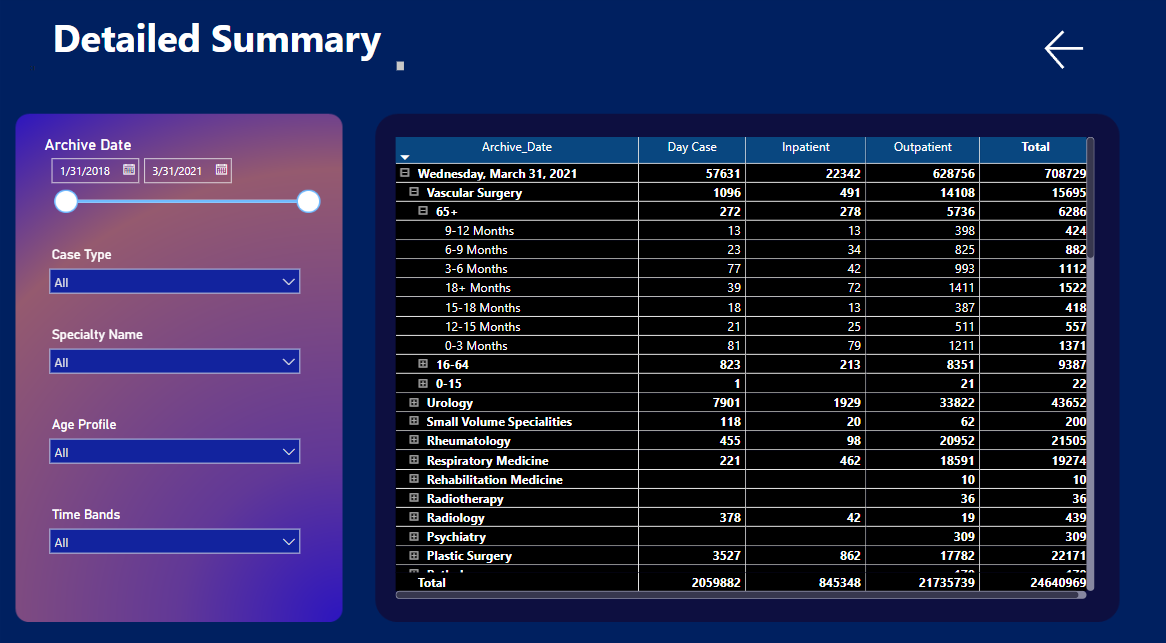

What the dashboard file says about the page in this screenshot:
{"tool":"powerbi","page":{"name":"Detail","canvas":[1280,720],"ordinal":1},"visuals":[{"type":"pivotTable","fields":{"Rows":["AllDatas.Archive_Date","AllDatas.Specialty_Name","AllDatas.Age_Profile","AllDatas.Time_Bands"],"Columns":["AllDatas.Case_Type"],"Values":["Sum(AllDatas.Total)"]},"box":[430,151.4,777.1,517.1],"z":0},{"type":"slicer","title":"Archive Date","fields":{"Values":["AllDatas.Archive_Date"]},"box":[44.3,154.3,315.7,92.9],"z":1000},{"type":"slicer","fields":{"Values":["AllDatas.Case_Type"]},"box":[44.3,271.4,295.7,62.9],"z":2000},{"type":"slicer","fields":{"Values":["AllDatas.Specialty_Name"]},"box":[44.3,360,295.7,62.9],"z":3000},{"type":"slicer","fields":{"Values":["AllDatas.Age_Profile"]},"box":[44.3,458.6,295.7,62.9],"z":4000},{"type":"slicer","fields":{"Values":["AllDatas.Time_Bands"]},"box":[44.3,557.1,295.7,62.9],"z":5000},{"type":"textbox","title":"Detailed Summary","box":[27,17.5,420.9,70.2],"z":6000},{"type":"actionButton","box":[1141.3,33.4,65.3,54.2],"z":7000}]}

Visuals, with their boxes in screenshot pixels (x1, y1, x2, y2), scaled from the page's 1280x720 canvas onto the 1166x643 screenshot:
pivotTable - AllDatas.Archive_Date x AllDatas.Specialty_Name: <bbox>392, 135, 1100, 597</bbox>
"Archive Date" slicer: <bbox>40, 138, 328, 221</bbox>
slicer - AllDatas.Case_Type: <bbox>40, 242, 310, 299</bbox>
slicer - AllDatas.Specialty_Name: <bbox>40, 322, 310, 378</bbox>
slicer - AllDatas.Age_Profile: <bbox>40, 410, 310, 466</bbox>
slicer - AllDatas.Time_Bands: <bbox>40, 498, 310, 554</bbox>
"Detailed Summary" textbox: <bbox>25, 16, 408, 78</bbox>
actionButton: <bbox>1040, 30, 1099, 78</bbox>
